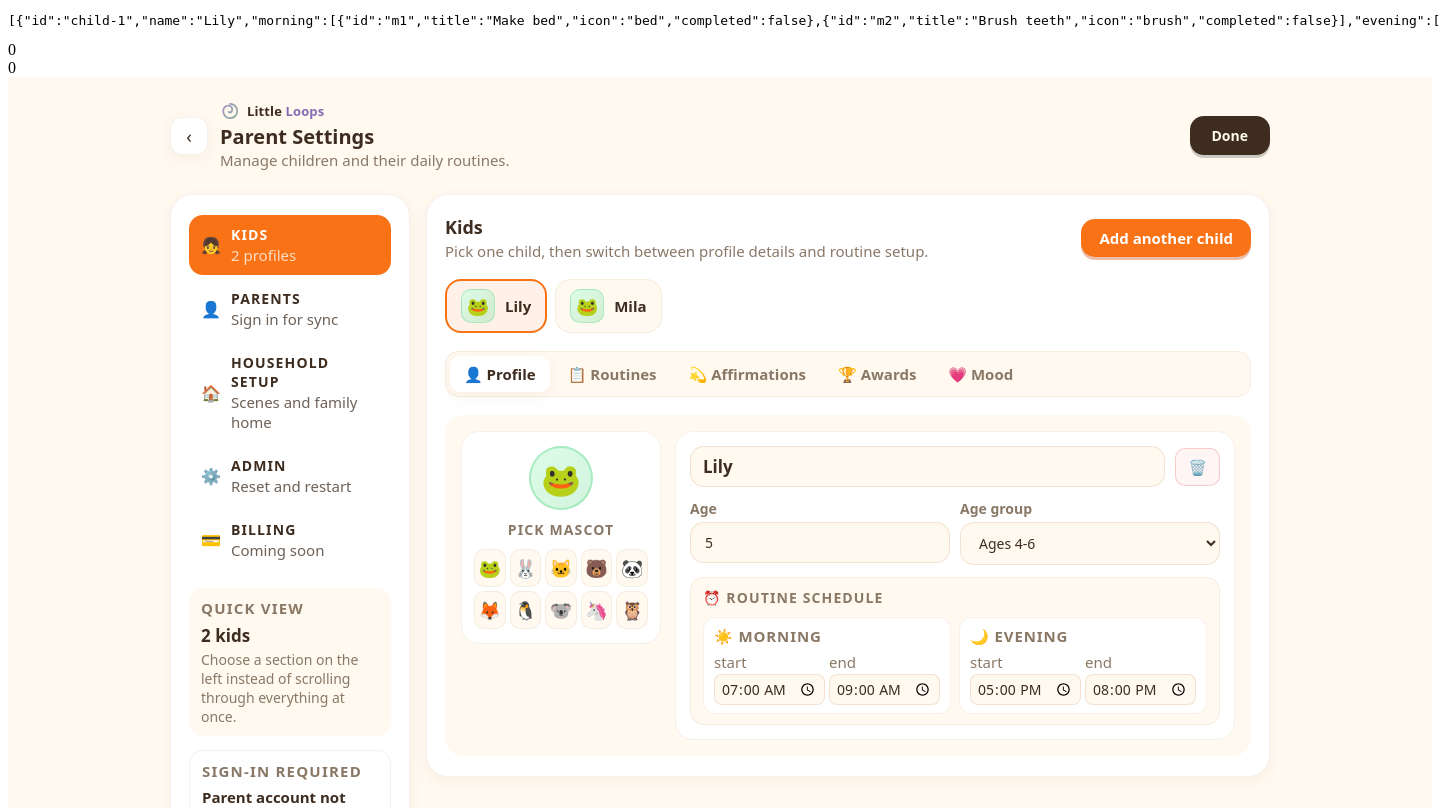
Scenario: ParentSettings › renames a child in place
The image size is (1452, 808).
Step 1. Replace the text in the field showing "Lily" with "LUNA" → coordinates (928, 466), box top-left (690, 446), bottom-right (1165, 487)
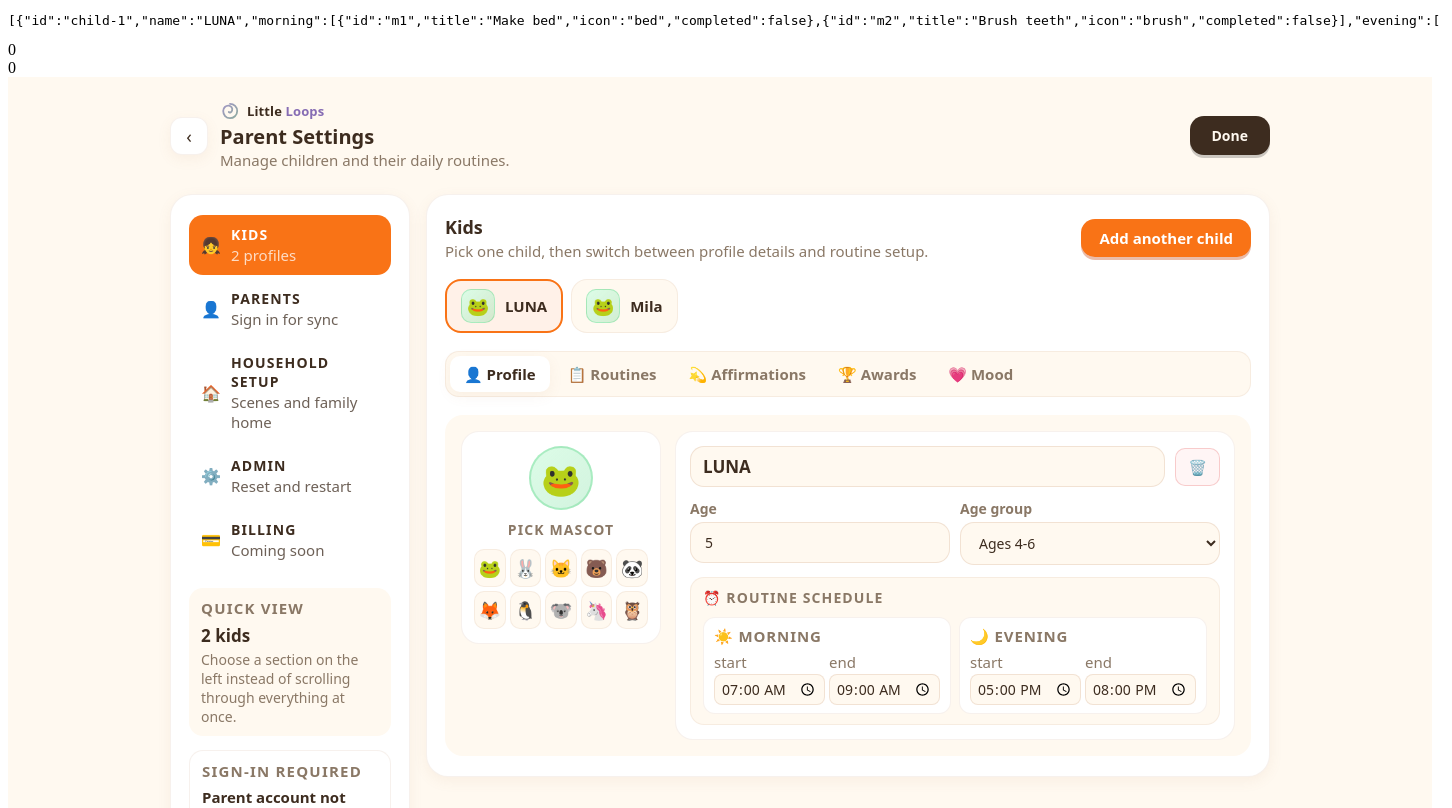
Result: the text "LUNA" is shown at top-left (505, 296), bottom-right (547, 316)
